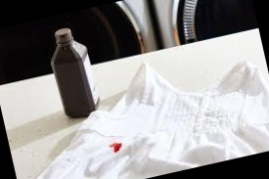blood: (107, 139, 125, 155)
